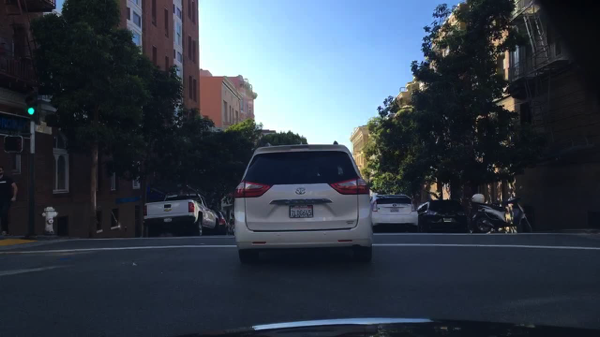car: (232, 140, 373, 265), (371, 192, 419, 231), (415, 199, 469, 233), (216, 212, 228, 235)
motor: (468, 191, 534, 234)
person: (0, 168, 18, 235)
traffic light: (26, 85, 39, 118), (4, 134, 23, 153)
truck: (141, 193, 218, 237)
